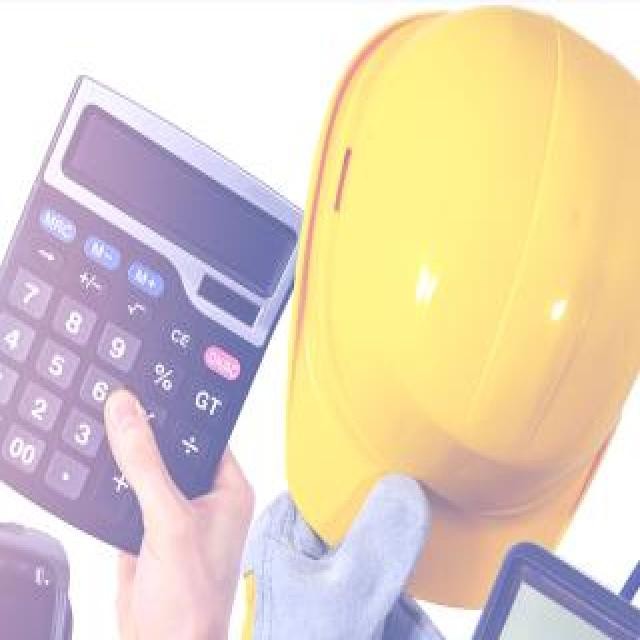helmet: (300, 8, 616, 593)
